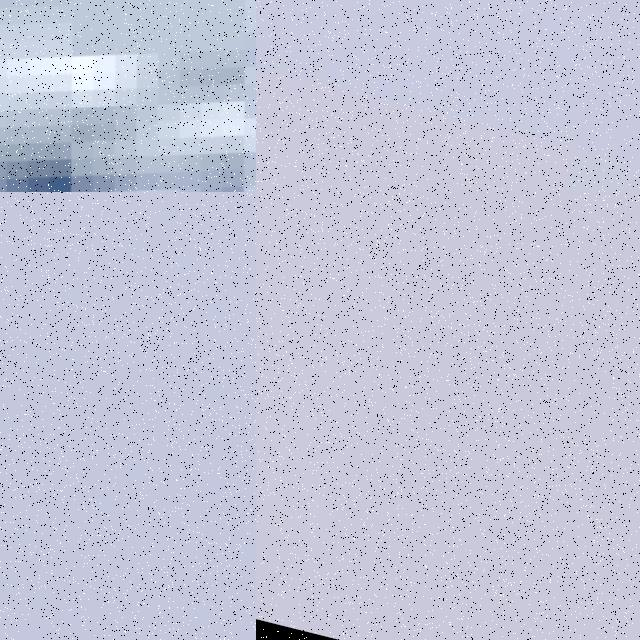drone: (0, 0, 256, 192)
